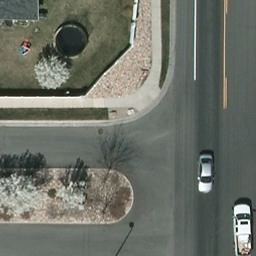car: (197, 153, 214, 192)
